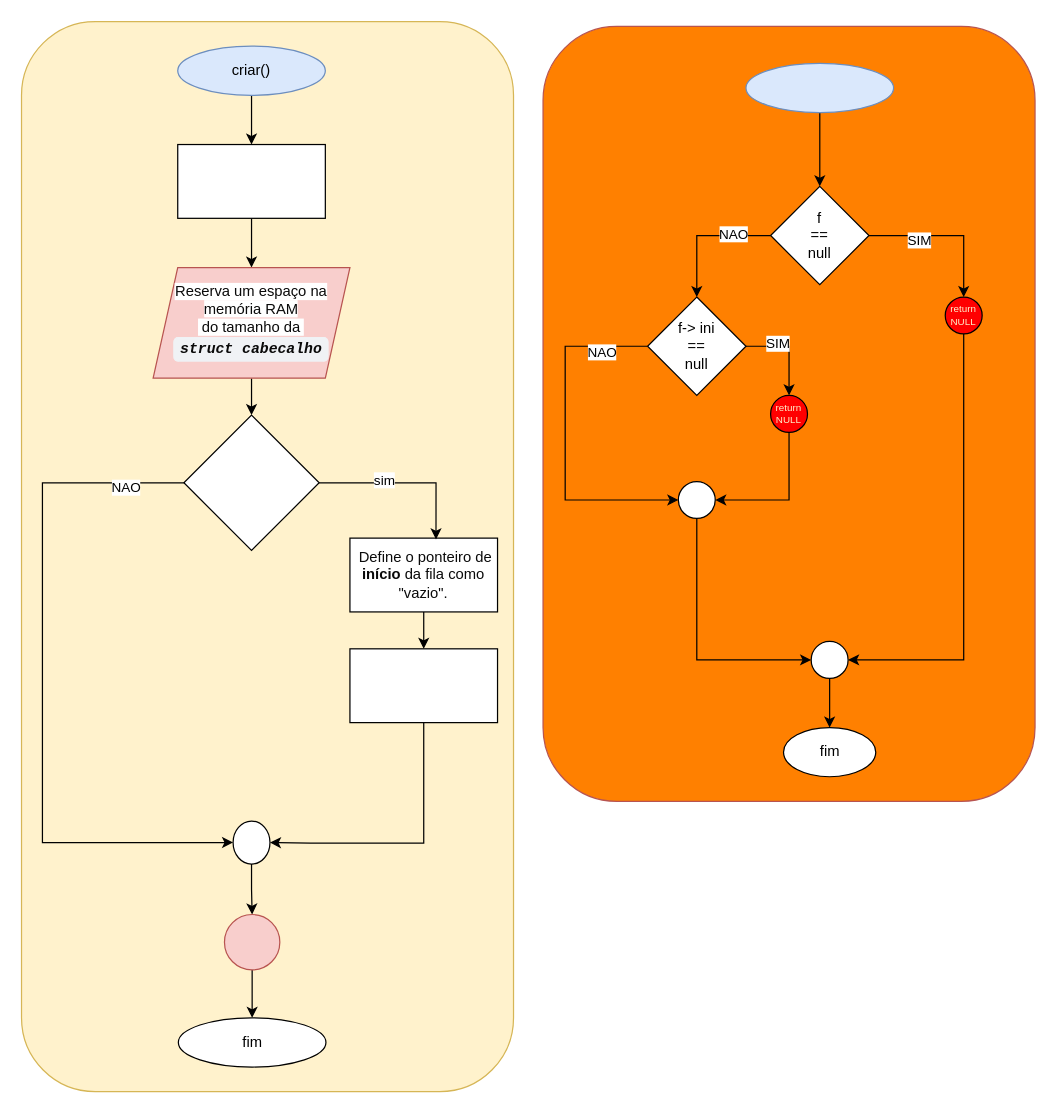
Image size: 1057x1113. Some labels were removed from this diagram. Each missing label, with the centre of its shape:
alocação de memória foi bem-sucedida: the point at 251,482
Define o ponteiro de fim da fila como "vazio".: the point at 423,685
Fila fila: the point at 251,180
return f: the point at 251,941
vazia(Fila f): the point at 819,87
